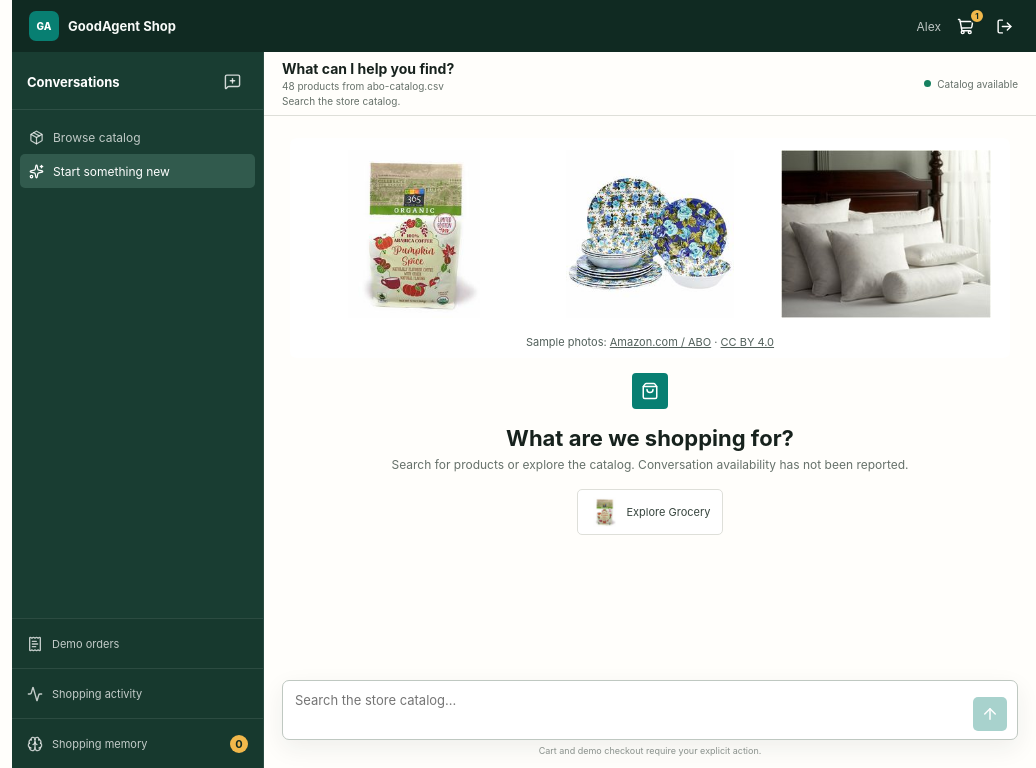
Test: ShopperApp › waits for checkout recovery before enabling a fresh review
This screenshot has width=1036, height=768.
Click the button named "Open cart with 1 items": (965, 26) [950,11,980,41]
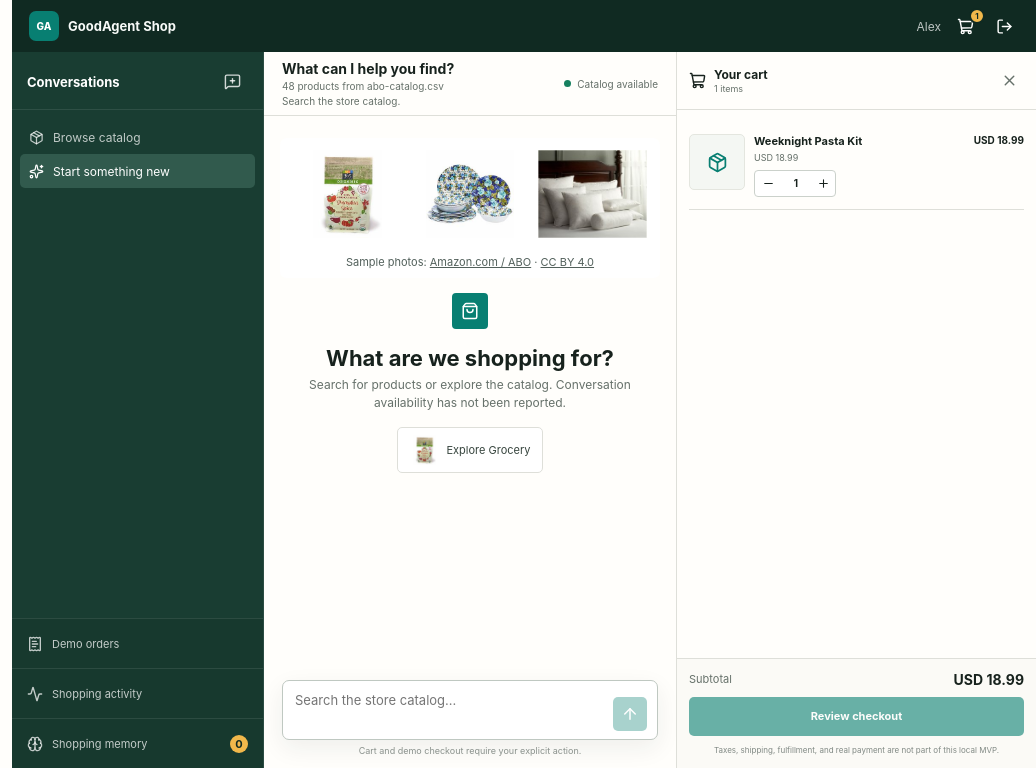
Result: the button "Review checkout" is disabled
Click the button "Review checkout": (856, 716) [689,697,1024,736]
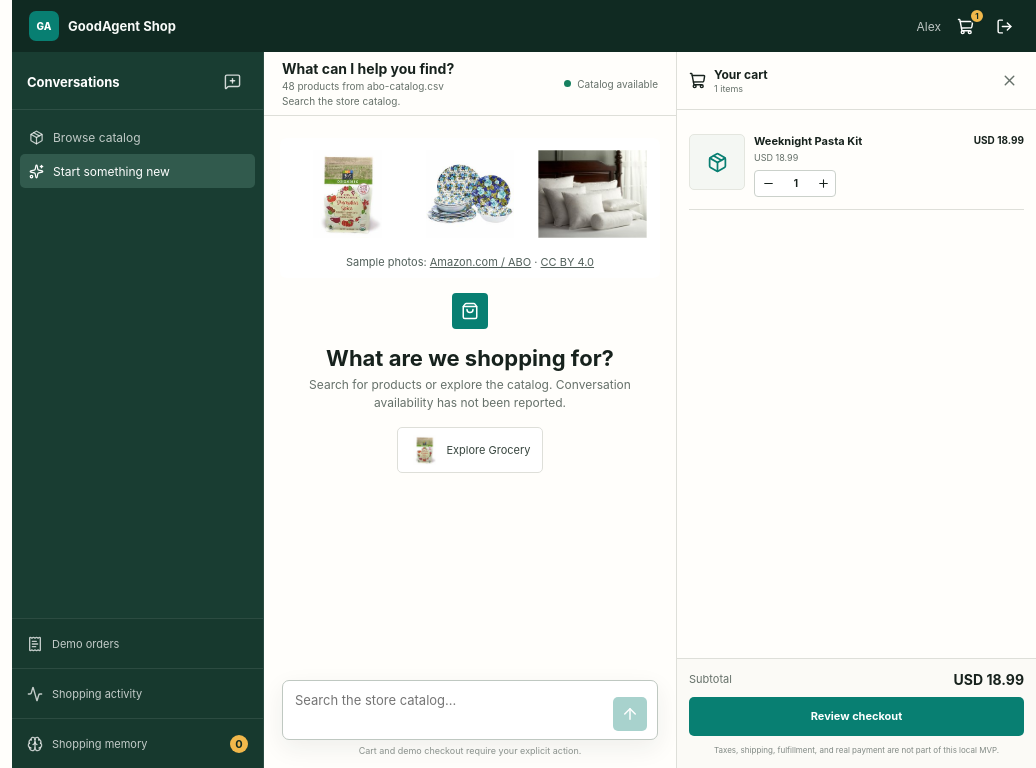
Result: the button "Review checkout" is enabled
Click the button "Review checkout": (856, 716) [689,697,1024,736]
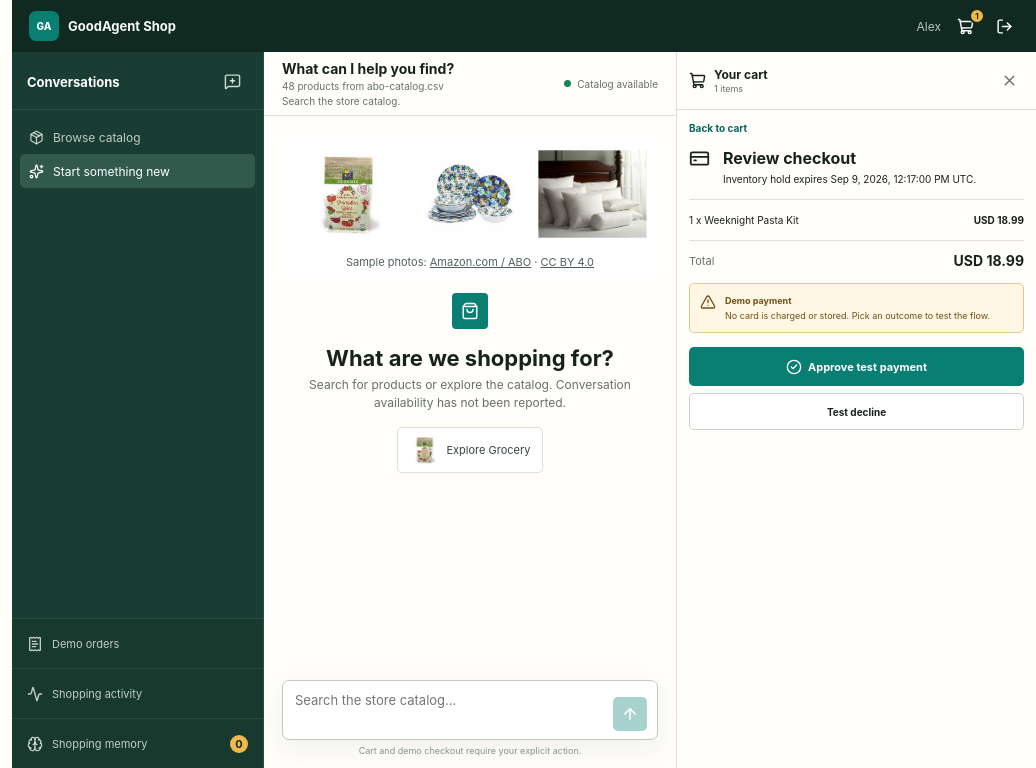
Result: the button "Approve test payment" is shown at [689,347,1024,386]
